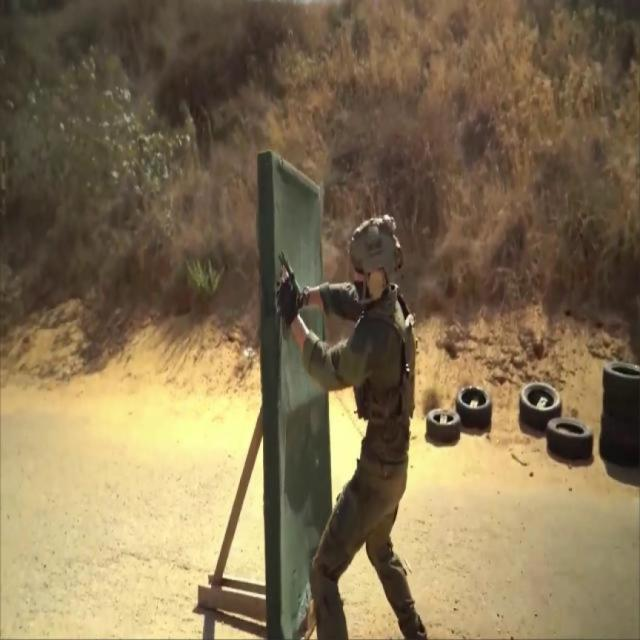pistol: (276, 250, 302, 322)
